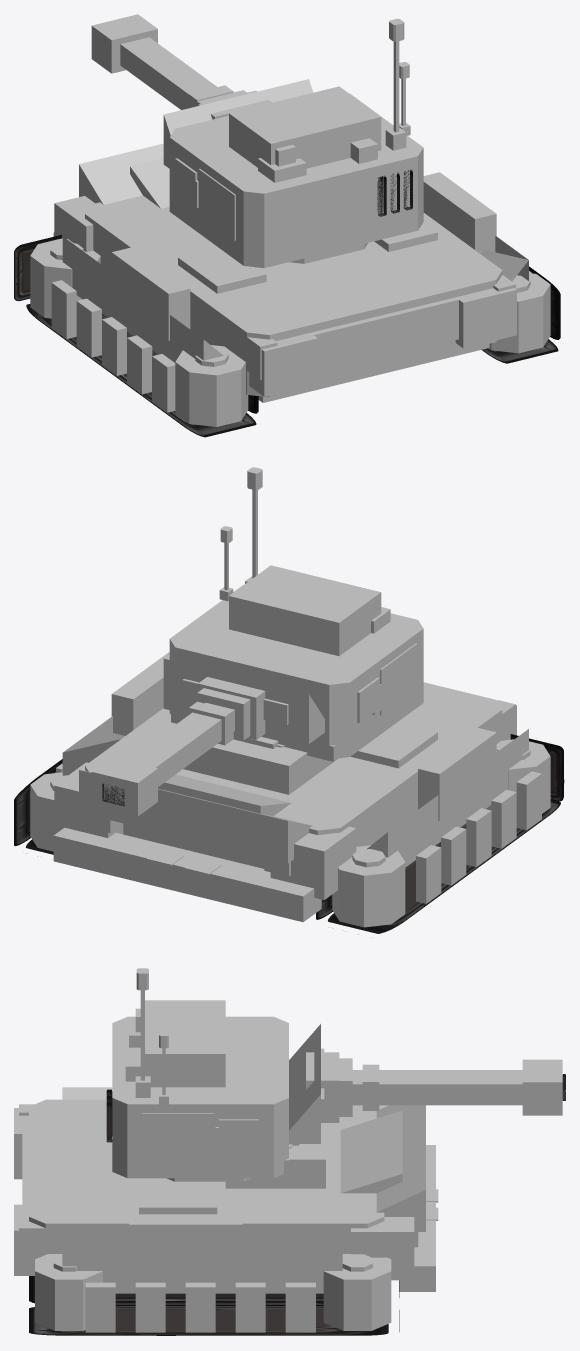
Rendered from Tank.fbx.
3 views of the same model, one above another, from view 1: azimuth 30°, elevation 25°; view 2: azimuth 150°, elevation 25°; view 3: azimuth 270°, elevation 25° (orthographic).
Parts seen in each view (by area): view 1: Hull_Main, Turret_Body, Turret_Blue_Top, Left_Track, Rear_Blue_Panel, Left_Blue_SidePanel, L_EndWheel_8.4, Left_Side_Armor, Right_Blue_SidePanel, Cannon_Barrel, Rear_Module_L, Rear_Module_R (+19 smaller); view 2: Hull_Main, Turret_Body, Front_Bumper, Turret_Blue_Top, Front_Glacis, Left_Track, Top_Blue_Hatch, Left_Blue_SidePanel, Left_Side_Armor, L_EndWheel_-8.9, Turret_Front_Slope, Cannon_Barrel (+18 smaller); view 3: Hull_Main, Turret_Body, Right_Side_Armor, Right_Track, Turret_Blue_Top, Right_Blue_SidePanel, Right_Track_Belt, Cannon_Barrel, Front_Blue_Plate, R_EndWheel_-8.9, Front_Glacis, R_EndWheel_8.4 (+17 smaller).
Boxes of the visible parts, box(x1,y1,x2,y2) form: Hull_Main: box(85, 195, 502, 397); Turret_Body: box(169, 93, 423, 267); Turret_Blue_Top: box(229, 86, 381, 168); Left_Track: box(51, 280, 175, 412); Rear_Blue_Panel: box(311, 297, 458, 373); Left_Blue_SidePanel: box(111, 247, 190, 340); L_EndWheel_8.4: box(175, 345, 248, 426); Left_Side_Armor: box(62, 236, 223, 362); Right_Blue_SidePanel: box(423, 172, 496, 253); Cannon_Barrel: box(120, 37, 216, 109); Rear_Module_L: box(249, 333, 317, 396); Rear_Module_R: box(455, 288, 516, 348); Hull_Main: box(85, 682, 502, 868); Turret_Body: box(169, 584, 423, 759); Front_Bumper: box(53, 827, 321, 922); Turret_Blue_Top: box(229, 565, 381, 656); Front_Glacis: box(79, 770, 312, 863); Left_Track: box(416, 771, 541, 903); Top_Blue_Hatch: box(183, 739, 338, 794); Left_Blue_SidePanel: box(418, 727, 496, 820); Left_Side_Armor: box(367, 729, 528, 867); L_EndWheel_-8.9: box(332, 845, 405, 927); Turret_Front_Slope: box(163, 658, 324, 743); Cannon_Barrel: box(127, 702, 234, 786); Hull_Main: box(29, 1099, 384, 1254); Turret_Body: box(112, 1016, 288, 1178); Right_Side_Armor: box(62, 1245, 342, 1293); Right_Track: box(85, 1282, 315, 1332); Turret_Blue_Top: box(145, 1000, 225, 1087); Right_Blue_SidePanel: box(129, 1214, 242, 1271); Right_Track_Belt: box(29, 1276, 399, 1335); Cannon_Barrel: box(352, 1070, 522, 1105); Front_Blue_Plate: box(340, 1110, 402, 1193); R_EndWheel_-8.9: box(323, 1254, 391, 1330); Front_Glacis: box(376, 1105, 425, 1231); R_EndWheel_8.4: box(35, 1254, 102, 1330).
Bounding box in the file's own units: 161 × 129 × 207.
